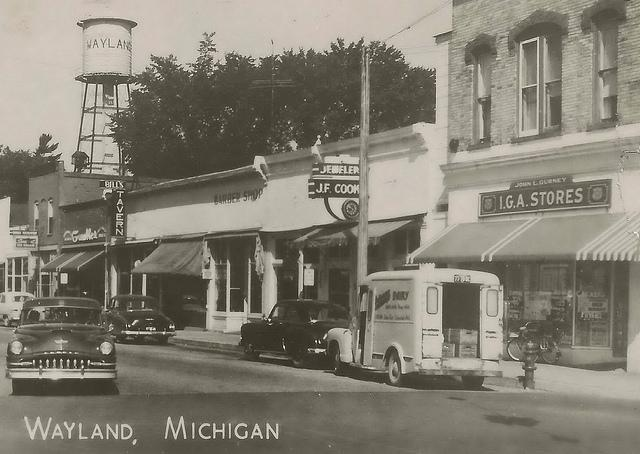bicycle: (508, 320, 560, 365)
car: (10, 293, 114, 384), (242, 302, 353, 368), (106, 292, 180, 344), (0, 290, 32, 328)
truck: (328, 260, 502, 388)
